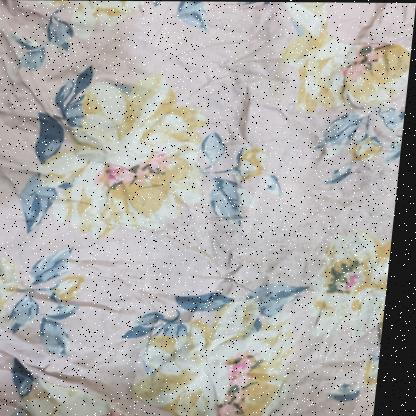spot: (321, 144, 400, 200), (295, 197, 395, 229), (308, 223, 345, 252), (294, 364, 326, 397), (296, 109, 327, 143), (276, 232, 308, 264), (354, 292, 384, 326), (219, 227, 251, 254), (298, 324, 337, 344), (305, 251, 330, 280), (272, 260, 303, 282), (190, 217, 214, 237)
